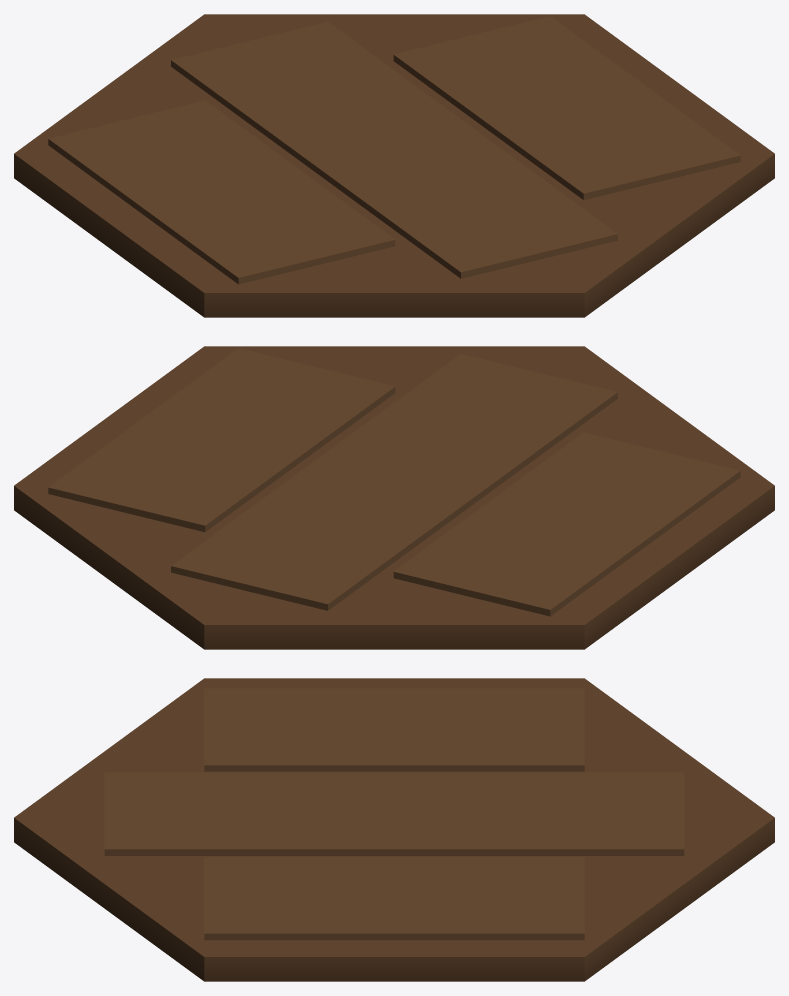
Rendered from fld_soil.glb.
3 views of the same model, one above another, from view 1: azimuth 30°, elevation 25°; view 2: azimuth 150°, elevation 25°; view 3: azimuth 270°, elevation 25° (orthographic).
Parts seen in each view (by area): view 1: fld_soil; view 2: fld_soil; view 3: fld_soil.
Part boxes in pixels (left/top/right/bottom): fld_soil: left=14, top=14, right=774, bottom=317; fld_soil: left=14, top=346, right=774, bottom=649; fld_soil: left=14, top=678, right=774, bottom=981.
Size of the model in its own units: 0.7275 by 0.038 by 0.84.
